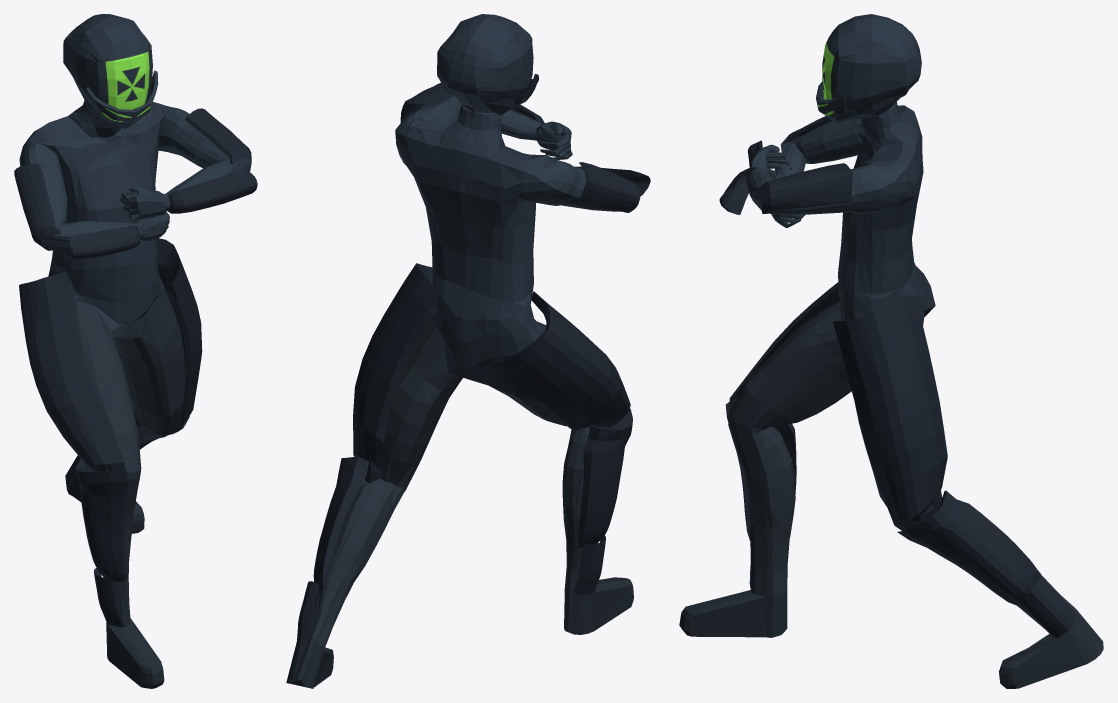
File: Bastion_WR_000010.obj
3 renders of one model, left to right at view 1: azimuth 30°, elevation 25°; view 2: azimuth 150°, elevation 25°; view 3: azimuth 270°, elevation 25°, orthographic. The views are drawn at different scales.
Visible parts, largest first — view 1: Cube.002; view 2: Cube.002; view 3: Cube.002.
Boxes of the visible parts, bbox=[...] form: Cube.002: bbox=[14, 14, 257, 688]; Cube.002: bbox=[286, 14, 650, 688]; Cube.002: bbox=[679, 14, 1103, 688].
Size of the model in its own units: 1.36 by 3.59 by 2.17.
